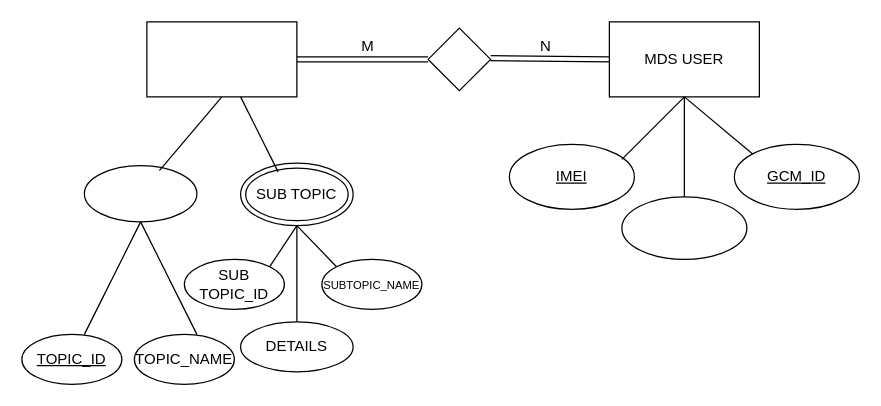
The diagram is 881 pixels wide and 406 high, and some of its shapes have lost their labels. Each missing label, with the centre of its shape:
"CONTENT" belongs at (x=221, y=59).
"EMAIL" belongs at (x=684, y=227).
"REQUESTS" belongs at (x=459, y=59).
"TOPIC" belongs at (x=140, y=193).
